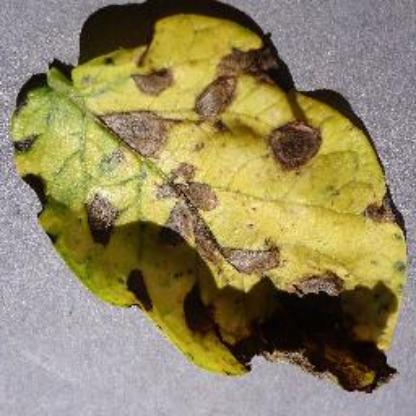Early-Blight: (8, 9, 408, 395)
